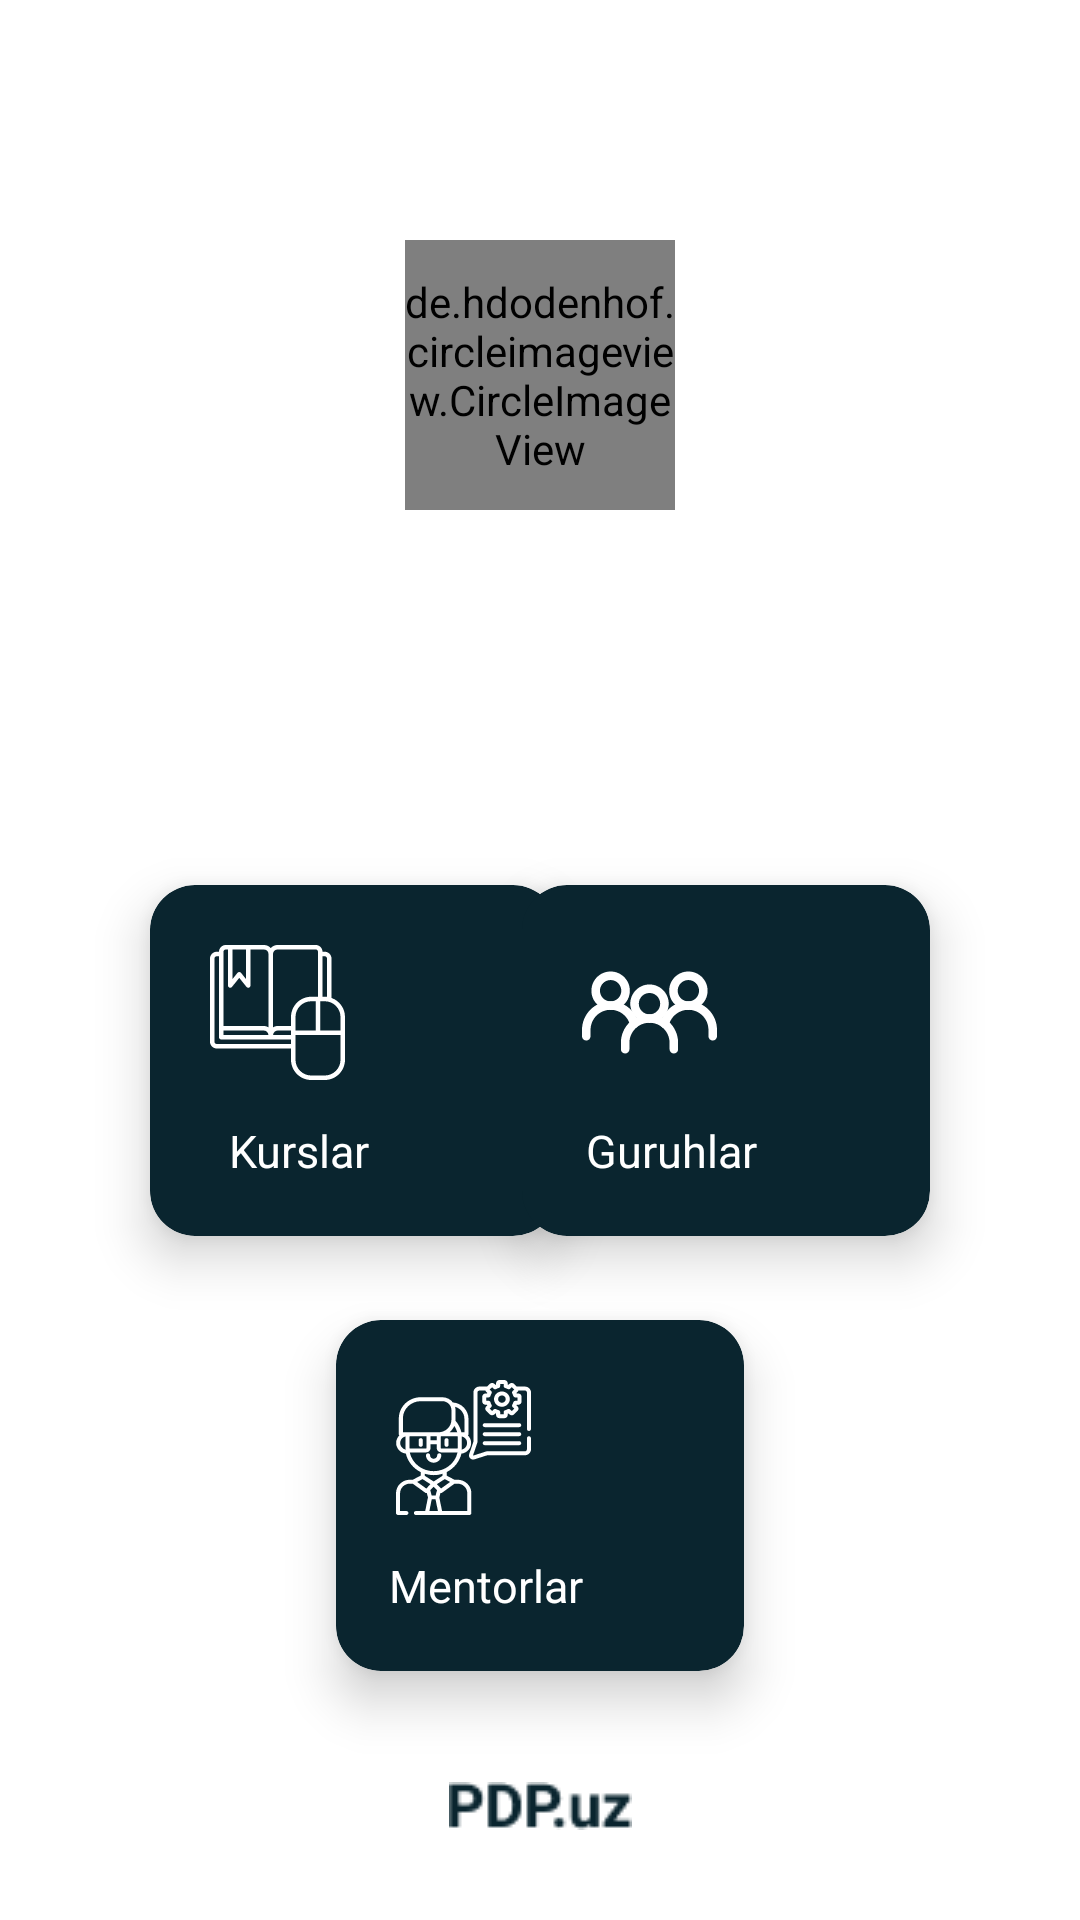

Where to tap for icons on this 1080*1920 app screen, as (x=x, y=y):
people: (x=649, y=1012)
